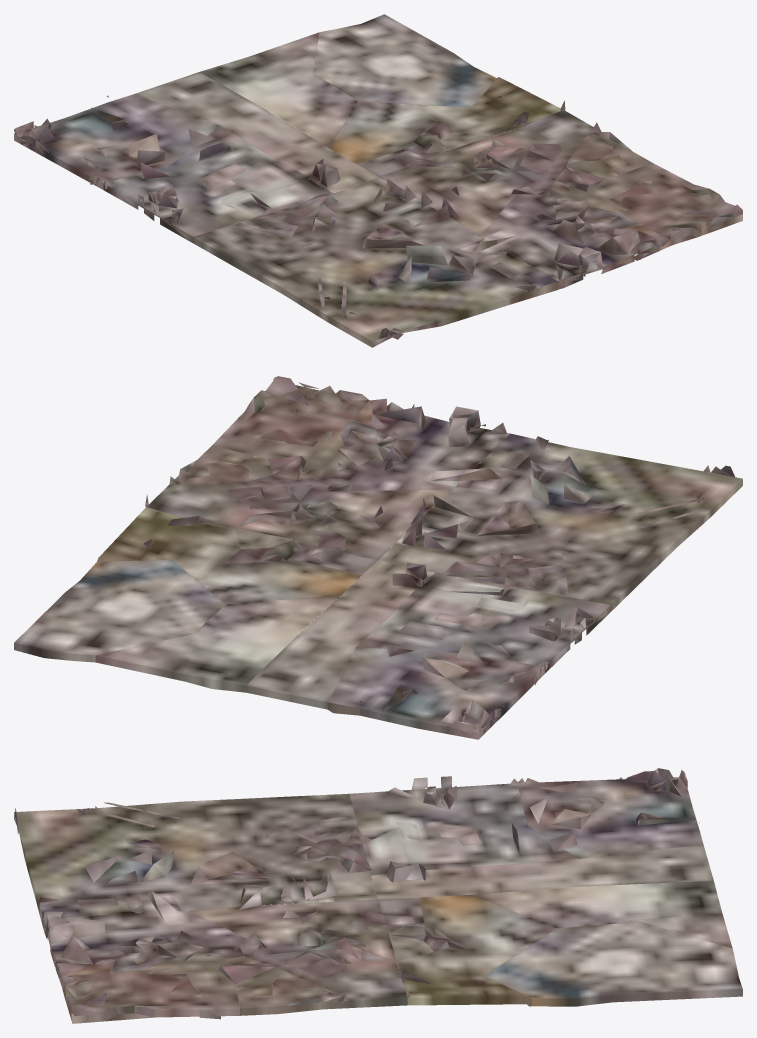
3 renders of one model, top to bottom at view 1: azimuth 30°, elevation 25°; view 2: azimuth 150°, elevation 25°; view 3: azimuth 270°, elevation 25°, orthographic. The views are drawn at different scales.
Visible parts, largest first — view 1: Mesh_0; view 2: Mesh_0; view 3: Mesh_0.
Part boxes in pixels (left/top/right/bottom): Mesh_0: left=14, top=14, right=742, bottom=347; Mesh_0: left=14, top=376, right=742, bottom=739; Mesh_0: left=14, top=768, right=742, bottom=1023.
Size of the model in its own units: 1065 by 69.18 by 1318.
Materials: 1 (1 with a texture image).
